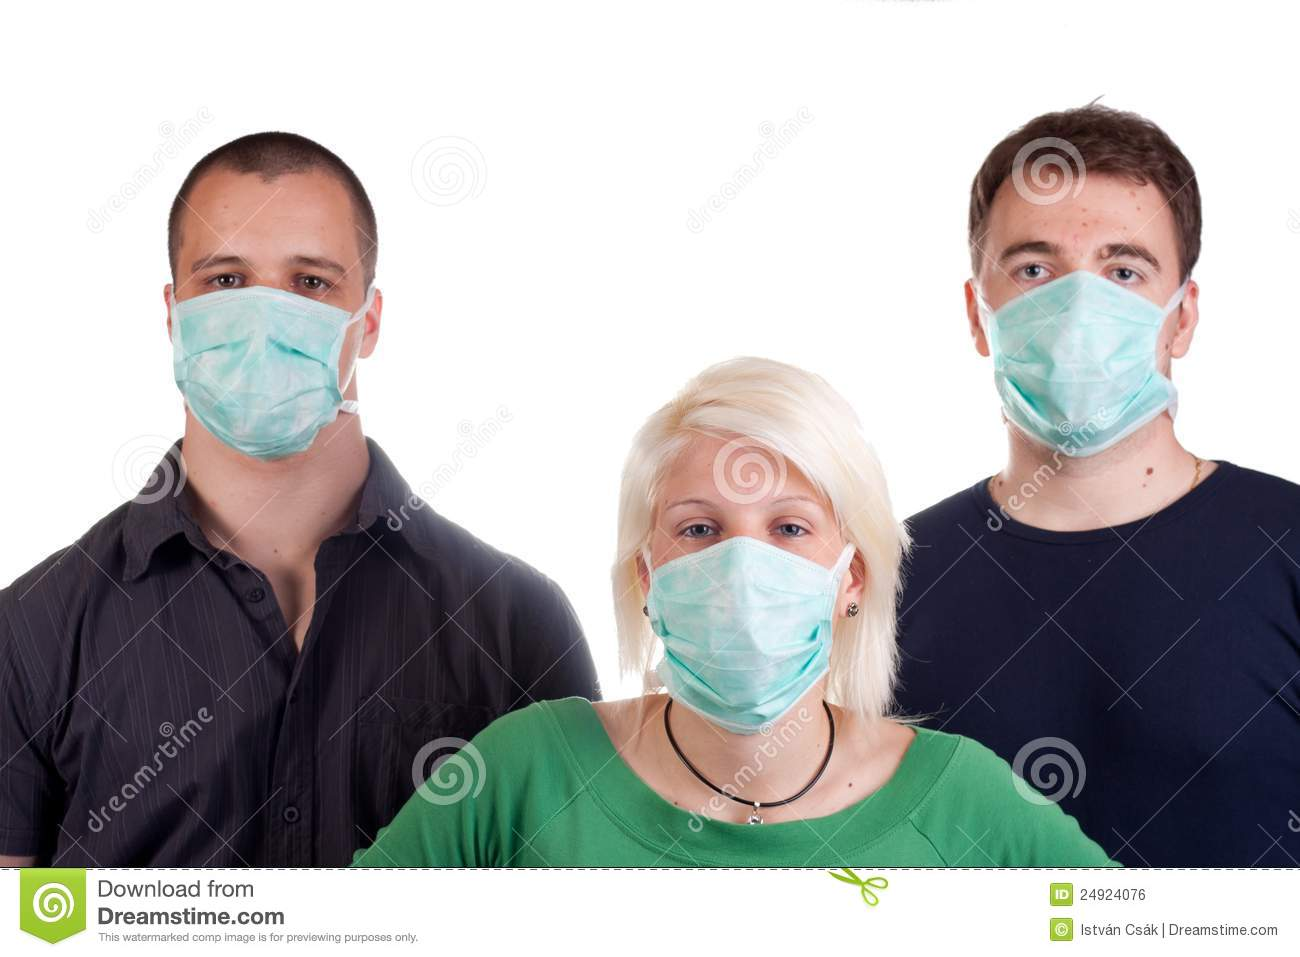mask: (648, 538, 833, 732), (987, 275, 1176, 458), (167, 284, 349, 465)
